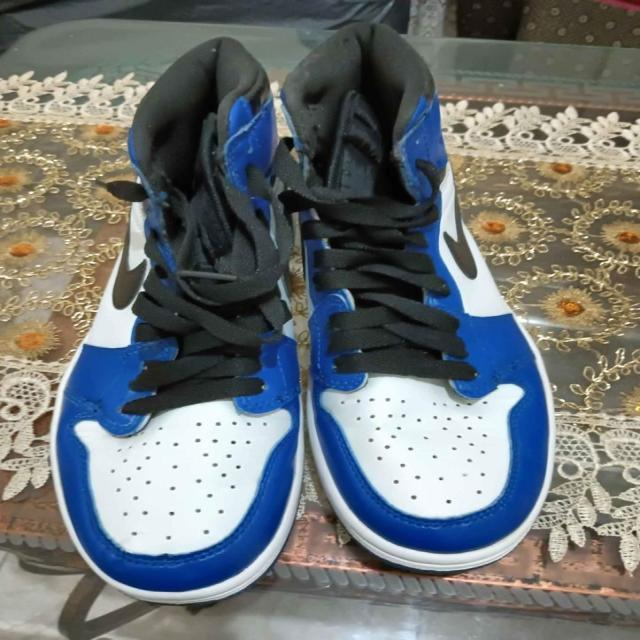nike fake jordan 1: (281, 20, 560, 575), (50, 36, 304, 602)
